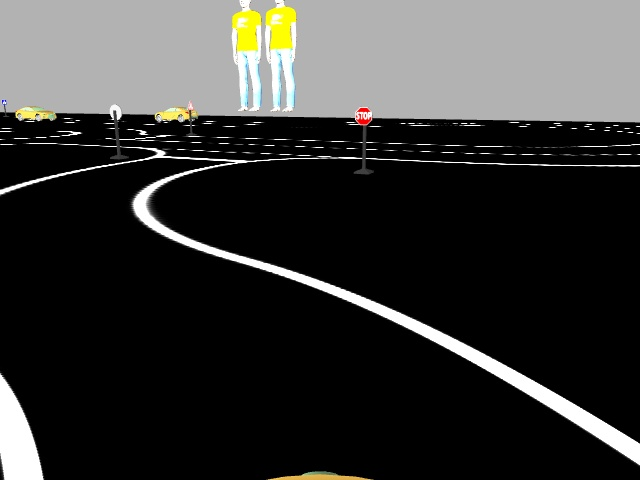Stop: (353, 105, 372, 124)
